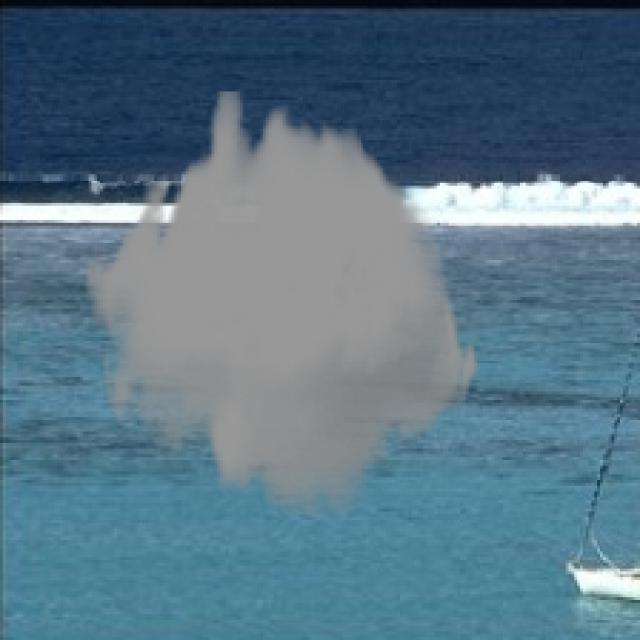Smoke: (83, 91, 480, 518)
